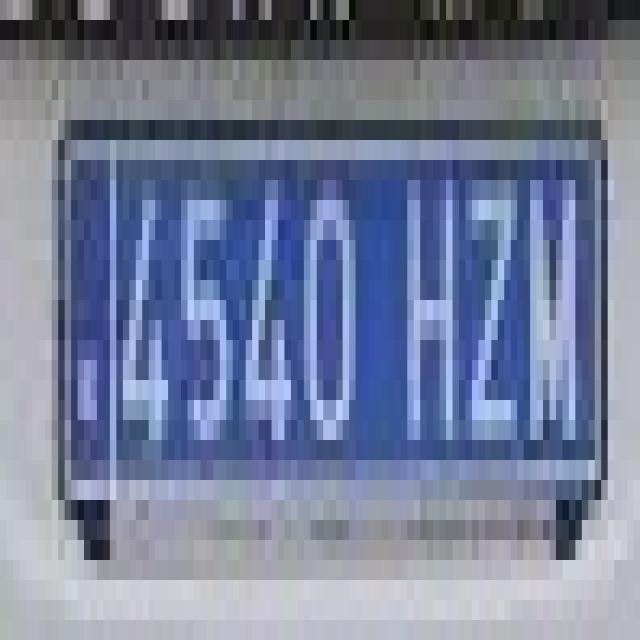LicensePlate: (58, 116, 608, 500)
